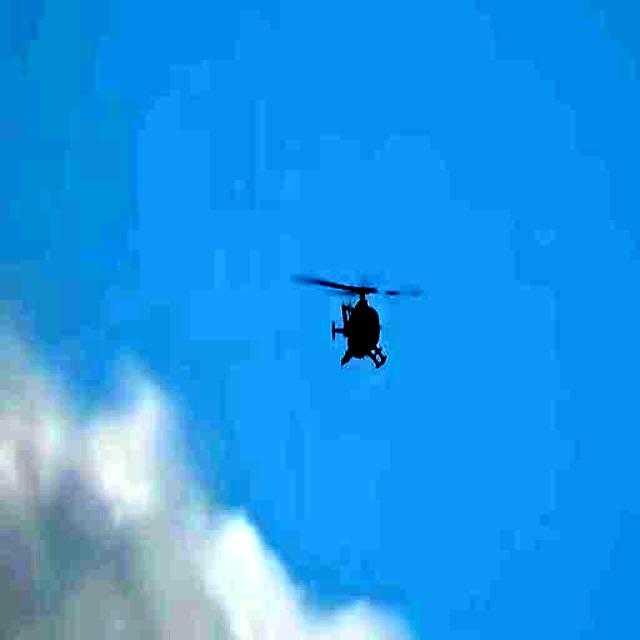drone: (314, 255, 409, 405)
